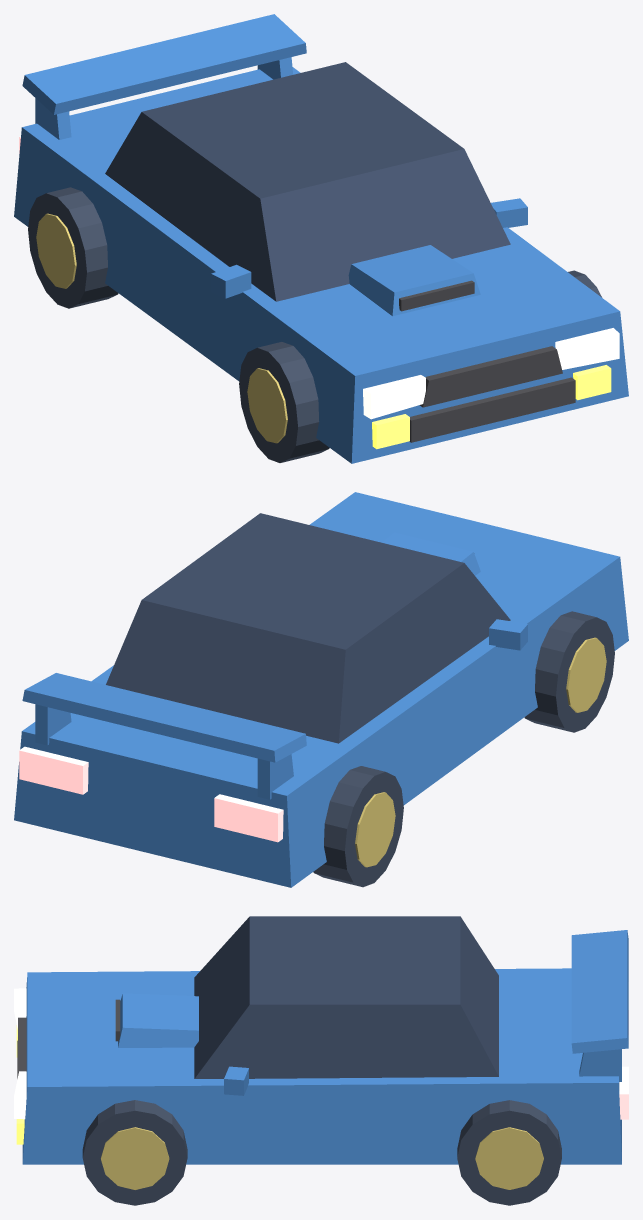
The model's file is impreza_wrx.glb.
3 renders of one model, top to bottom at view 1: azimuth 30°, elevation 25°; view 2: azimuth 150°, elevation 25°; view 3: azimuth 270°, elevation 25°, orthographic. The views are drawn at different scales.
Visible parts, largest first — view 1: chassis, cabin, spoiler, wheel_0, wheel_2, hood_scoop, bumper_intake, grille, hub_0, hub_2, headlight_0, headlight_1 (+6 smaller); view 2: chassis, cabin, spoiler, wheel_0, wheel_2, taillight_0, taillight_1, hub_2, hub_0, hood_scoop, spoiler_right, mirror_0 (+1 smaller); view 3: chassis, cabin, spoiler, wheel_1, wheel_3, hood_scoop, hub_3, hub_1, spoiler_left, mirror_1, headlight_1, grille (+1 smaller).
Boxes of the visible parts, <box> form: chassis: <box>14,67,628,463</box>; cabin: <box>105,62,510,301</box>; spoiler: <box>22,14,306,114</box>; wheel_0: <box>239,342,329,462</box>; wheel_2: <box>28,187,118,308</box>; hood_scoop: <box>348,245,480,316</box>; bumper_intake: <box>409,377,575,442</box>; grille: <box>419,346,562,407</box>; hub_0: <box>247,368,287,443</box>; hub_2: <box>36,213,76,288</box>; headlight_0: <box>363,375,425,419</box>; headlight_1: <box>555,328,619,369</box>; chassis: <box>14,492,628,887</box>; cabin: <box>106,513,510,743</box>; spoiler: <box>22,673,306,762</box>; wheel_0: <box>524,611,614,732</box>; wheel_2: <box>313,766,403,887</box>; taillight_0: <box>214,794,283,842</box>; taillight_1: <box>19,746,88,794</box>; hub_2: <box>355,792,395,867</box>; hub_0: <box>566,637,606,712</box>; hood_scoop: <box>382,532,480,575</box>; spoiler_right: <box>257,754,293,799</box>; mirror_0: <box>489,619,527,650</box>; chassis: <box>22,968,621,1164</box>; cabin: <box>194,916,498,1078</box>; spoiler: <box>571,930,628,1053</box>; wheel_1: <box>82,1100,187,1205</box>; wheel_3: <box>457,1100,561,1205</box>; hood_scoop: <box>118,993,198,1047</box>; hub_3: <box>475,1127,543,1189</box>; hub_1: <box>100,1127,169,1189</box>; spoiler_left: <box>579,1049,621,1081</box>; mirror_1: <box>224,1066,248,1095</box>; headlight_1: <box>14,1071,26,1119</box>; grille: <box>18,1017,26,1075</box>.
Bounding box in the file's own units: 2.63 × 1.56 × 4.93.
